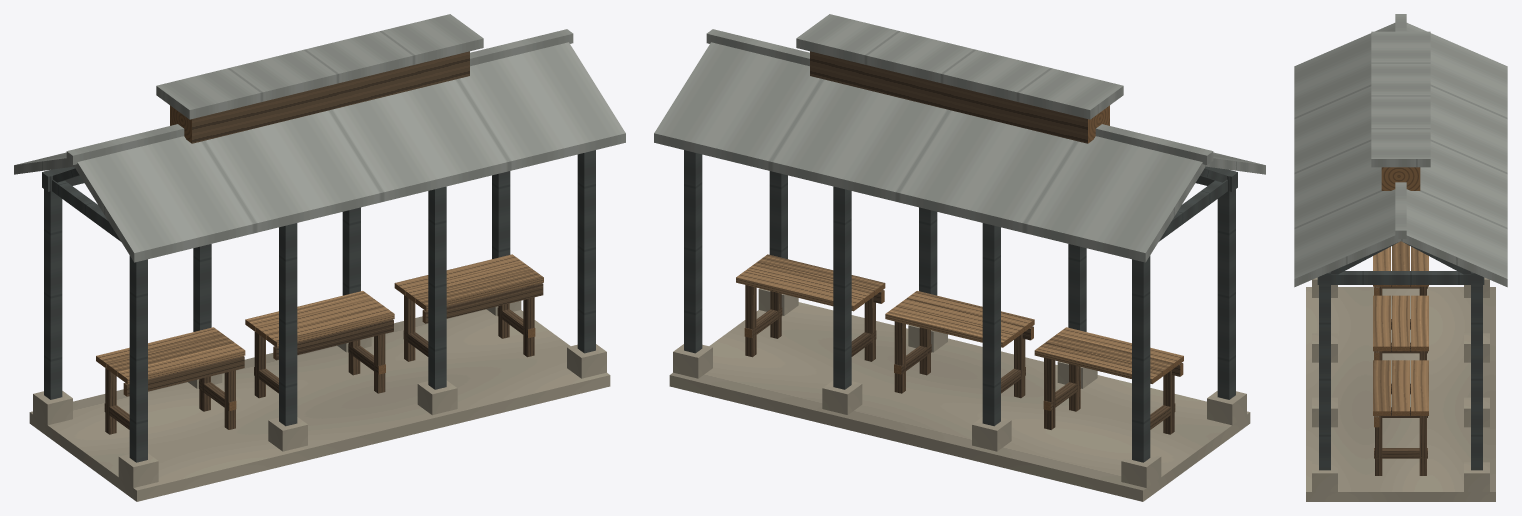
The picture shows the model from 3 angles, left to right: view 1: azimuth 30°, elevation 25°; view 2: azimuth 150°, elevation 25°; view 3: azimuth 270°, elevation 25°; orthographic projection. The views are drawn at different scales.
Visible parts, largest first — view 1: london; view 2: london; view 3: london.
Part boxes in pixels (box(x1,y1,x2,y2)): london: box(14, 14, 625, 501); london: box(654, 14, 1265, 501); london: box(1294, 14, 1507, 501).
Bounding box in the file's own units: 3.82 × 2.5 × 1.59.
1 material, 1 textured.
